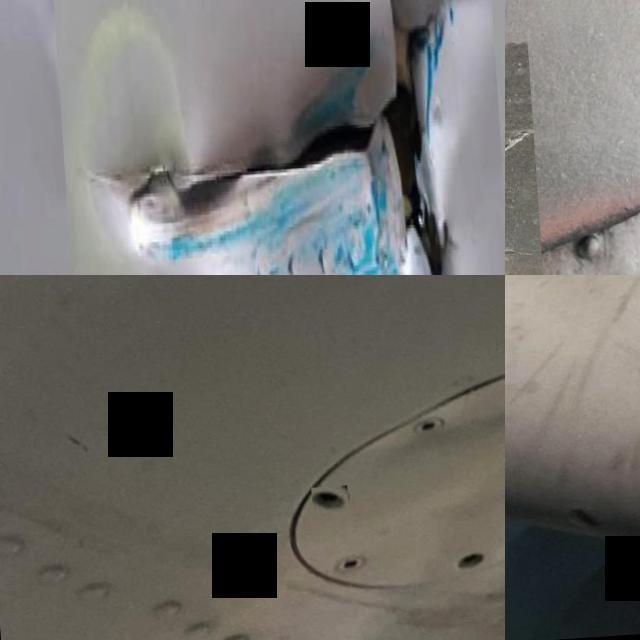Crack: (46, 0, 505, 275), (505, 48, 540, 275)
Missing_Fastener: (305, 491, 342, 519), (448, 554, 482, 580)
